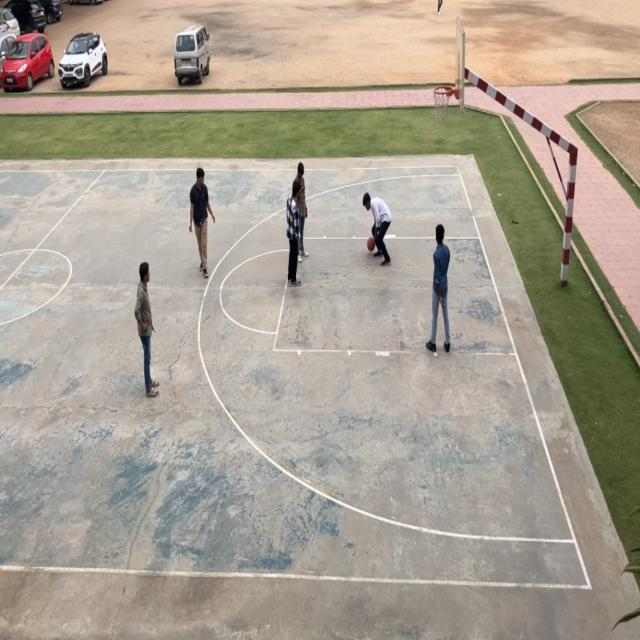basketball: (366, 234, 376, 256)
hoop: (431, 85, 453, 121)
